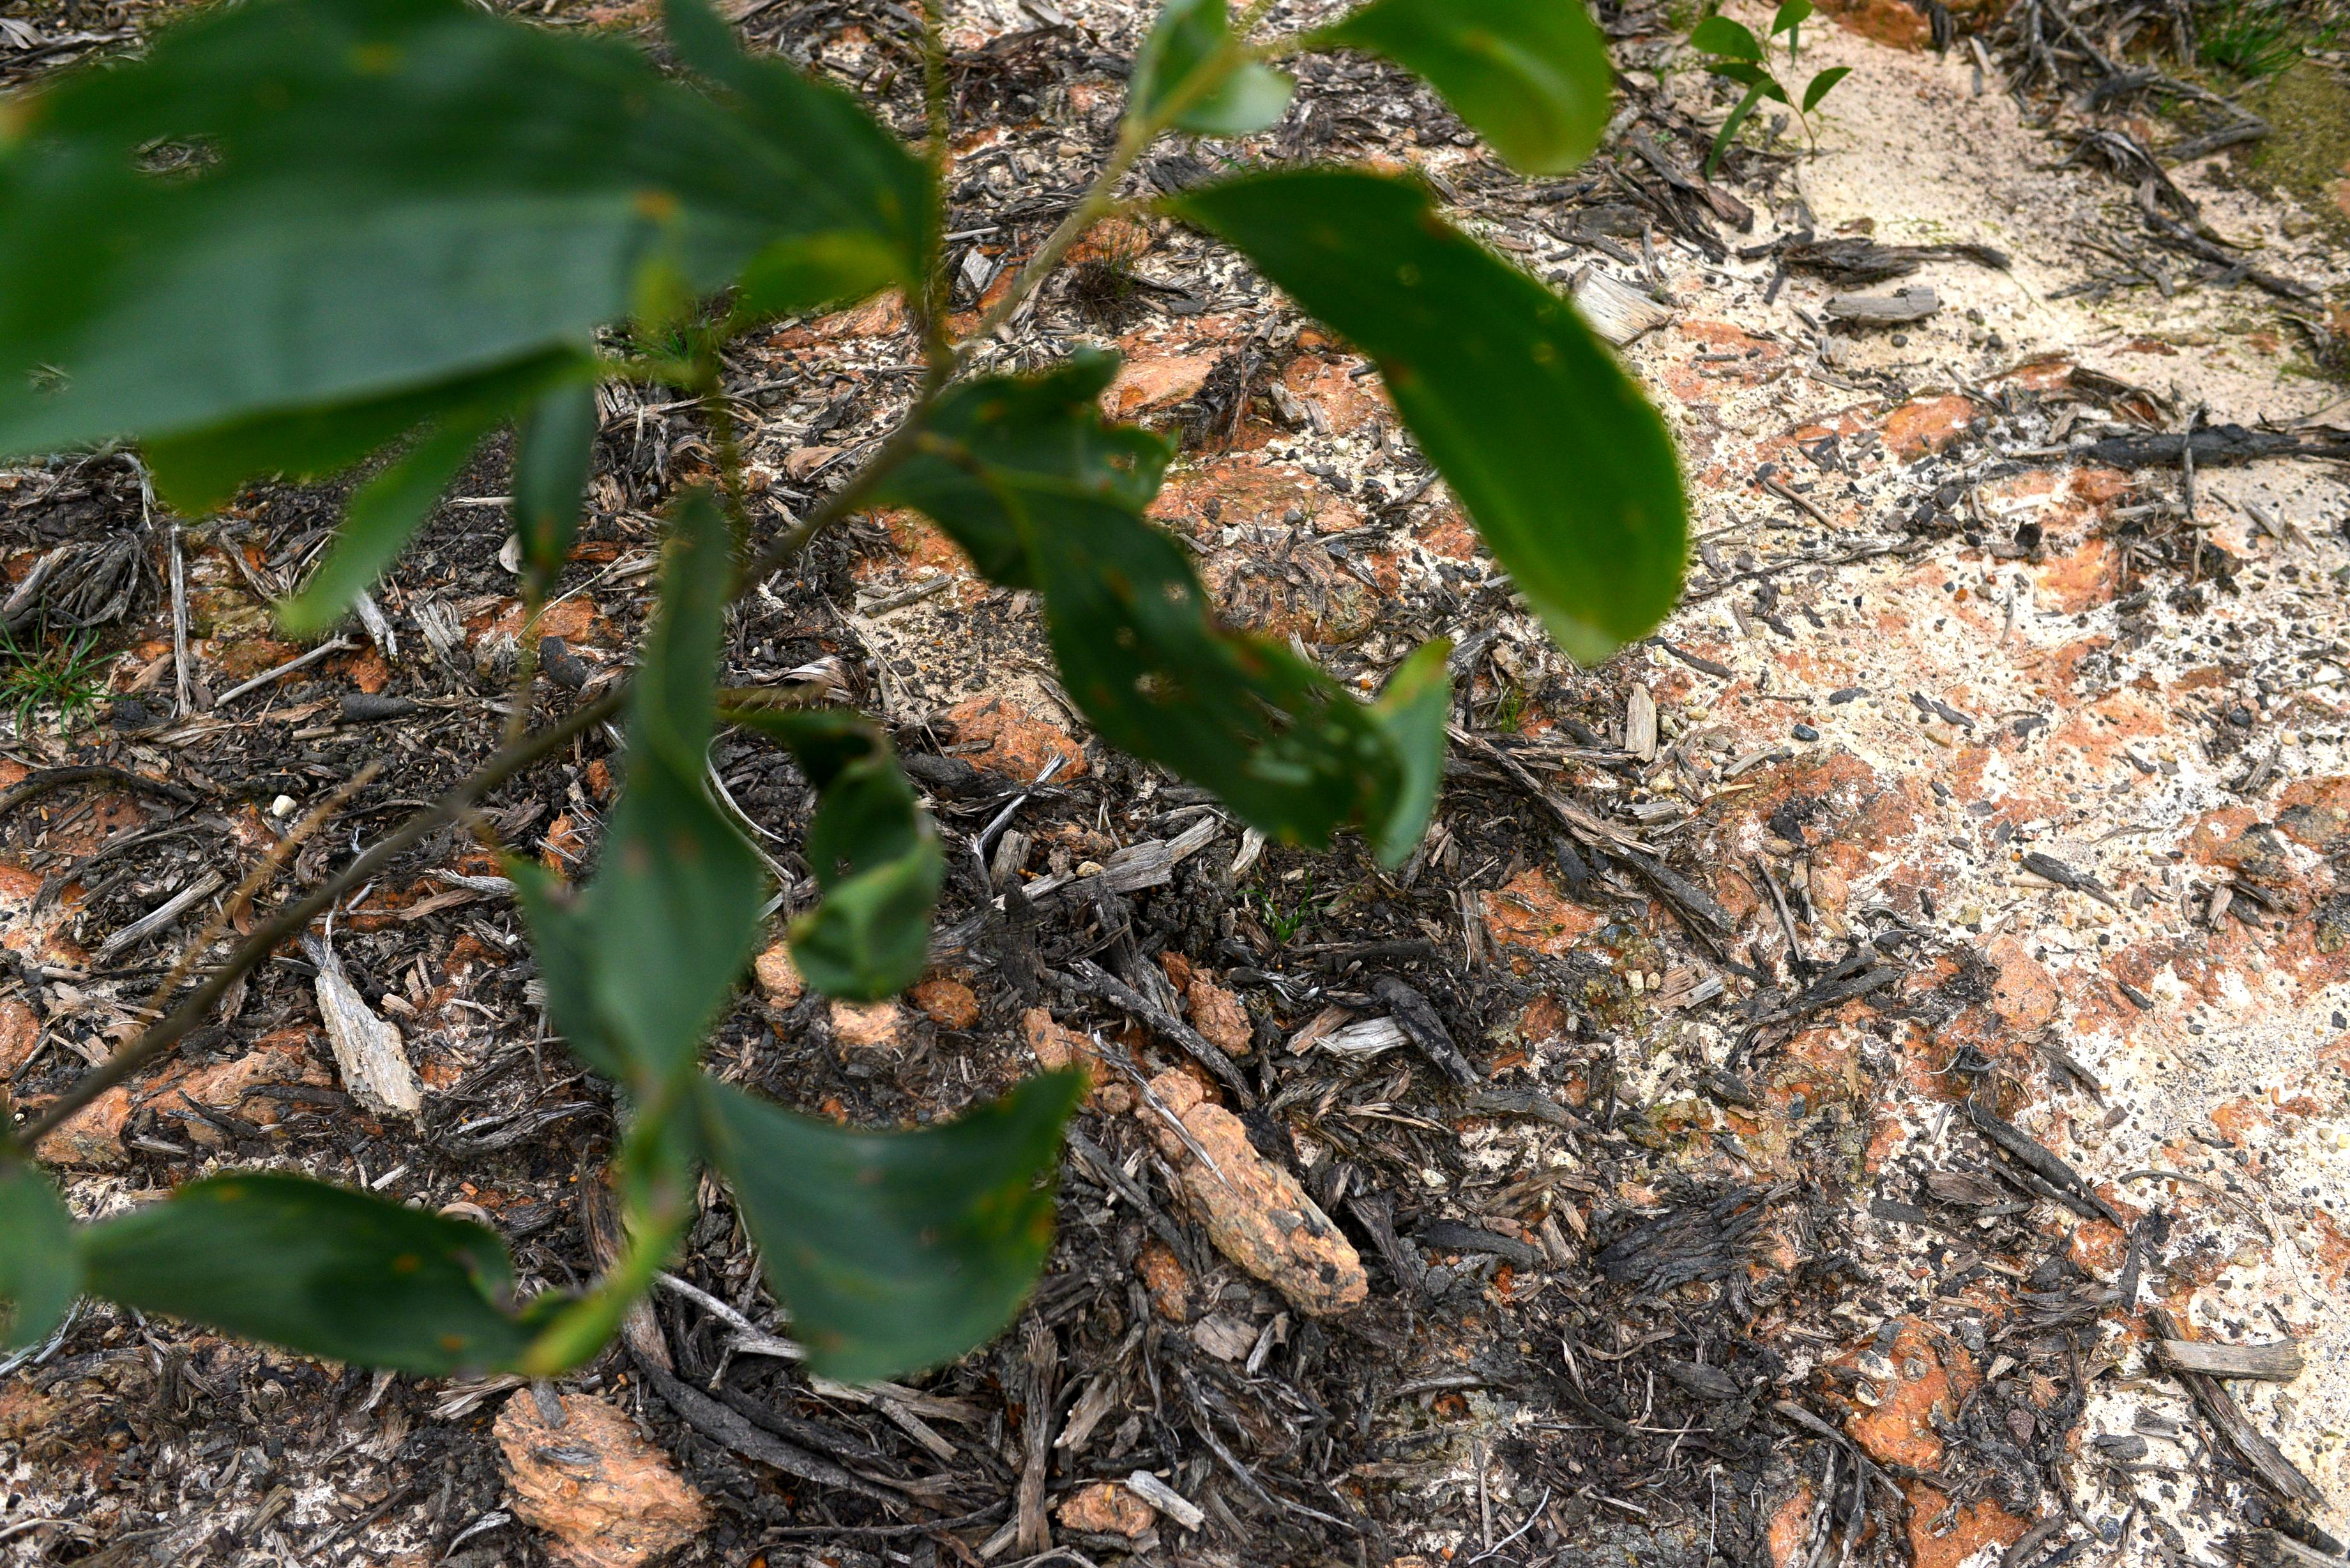Pasalora: (1200, 135, 1706, 635), (77, 1132, 723, 1389), (1018, 490, 1440, 870), (745, 1076, 1092, 1398), (565, 471, 730, 1118), (847, 352, 1179, 583), (779, 696, 948, 999)
